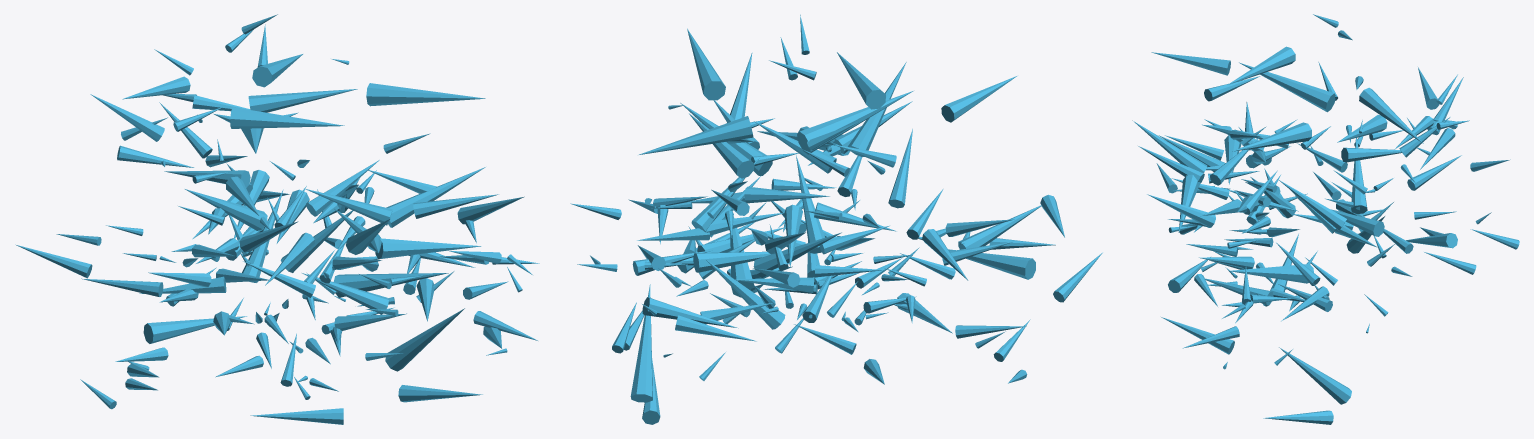
The model's file is NurStacheln_v01.fbx.
The picture shows the model from 3 angles, left to right: view 1: azimuth 30°, elevation 25°; view 2: azimuth 150°, elevation 25°; view 3: azimuth 270°, elevation 25°; orthographic projection. The views are drawn at different scales.
Parts seen in each view (by area): view 1: Stacheln; view 2: Stacheln; view 3: Stacheln.
Boxes of the visible parts, x1,y1,x2,y2 form: Stacheln: (15, 14, 539, 424); Stacheln: (570, 14, 1102, 424); Stacheln: (1132, 14, 1519, 424).
Bounding box in the file's own units: 216 × 196 × 194.
